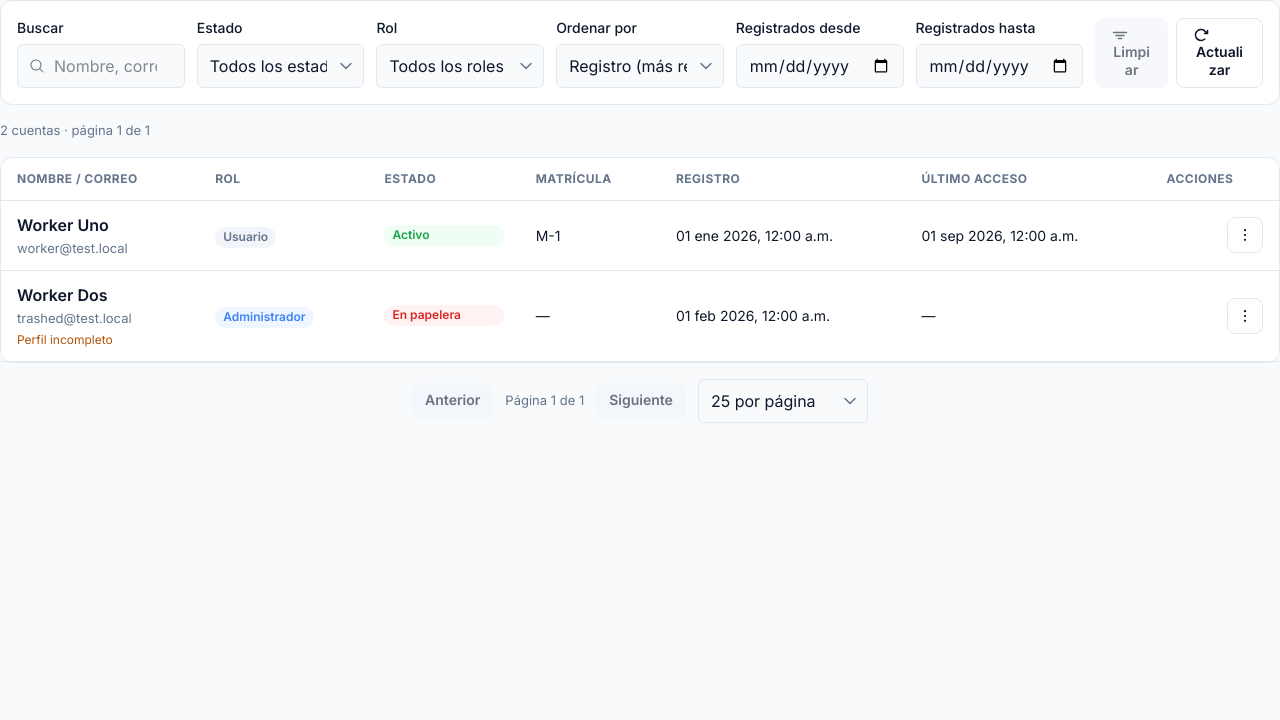
Test: AdminUsersScreen › abre la ficha administrativa desde el menú contextual y muestra diagnósticos
Click the button named "Acciones para Worker Uno" at (1245, 235), box [1227, 217, 1263, 253]
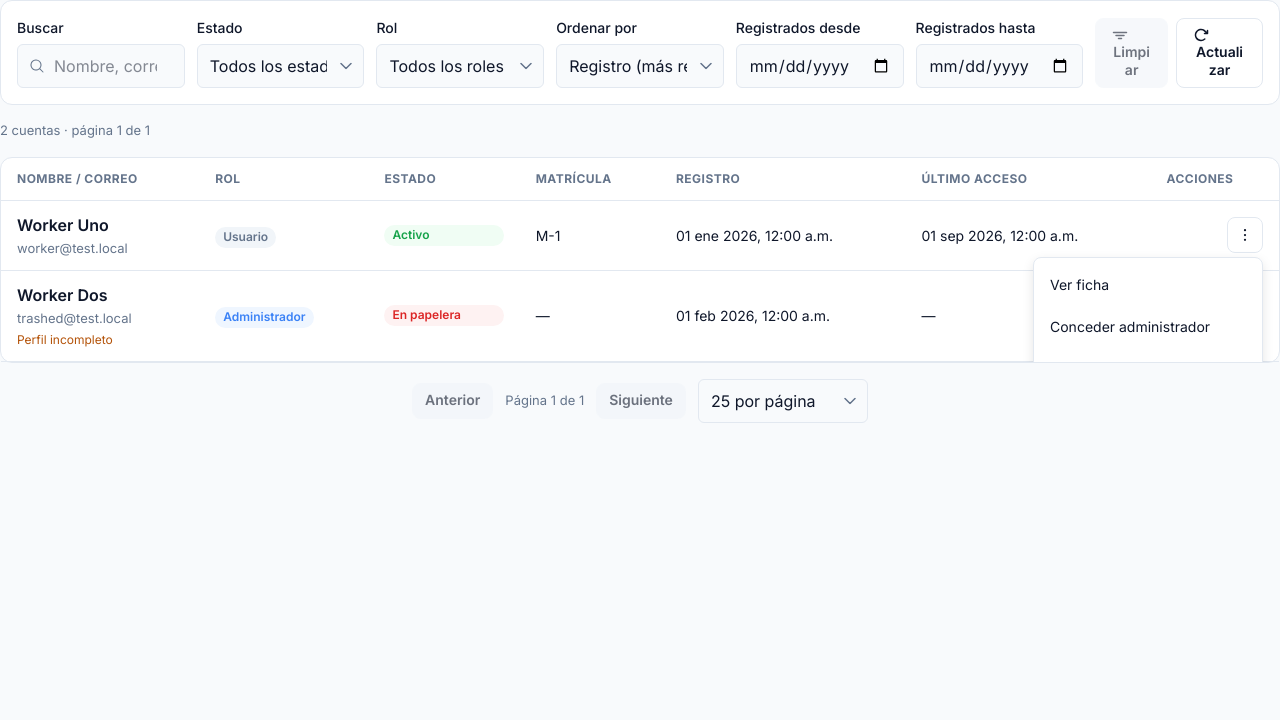
Click the menu item "Ver ficha" at (1148, 284), box [1040, 264, 1256, 304]
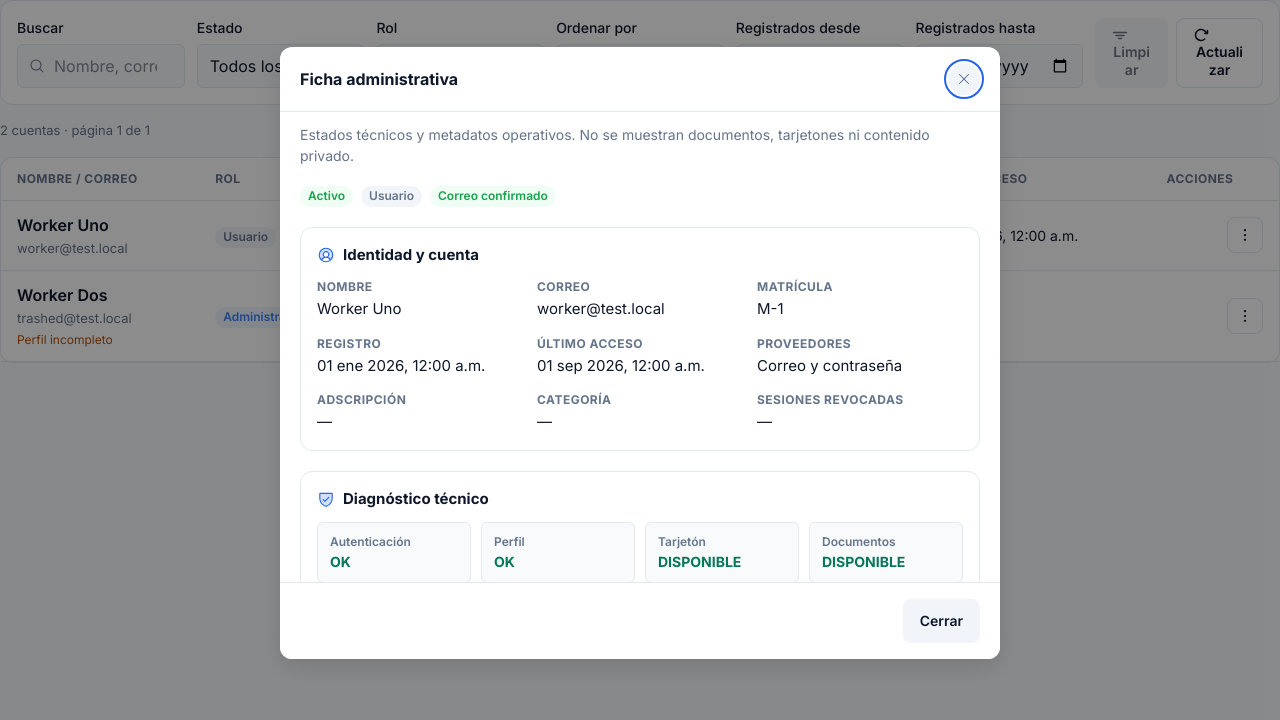
Check: the heading "Diagnóstico técnico" is shown, box [343, 488, 489, 510]
Check: the text "DISPONIBLE" below "Tarjetón" is shown, box [658, 553, 741, 570]
Check: the text "No se muestran documentos, tarjetones ni contenido privado" is shown, box [300, 126, 930, 164]
